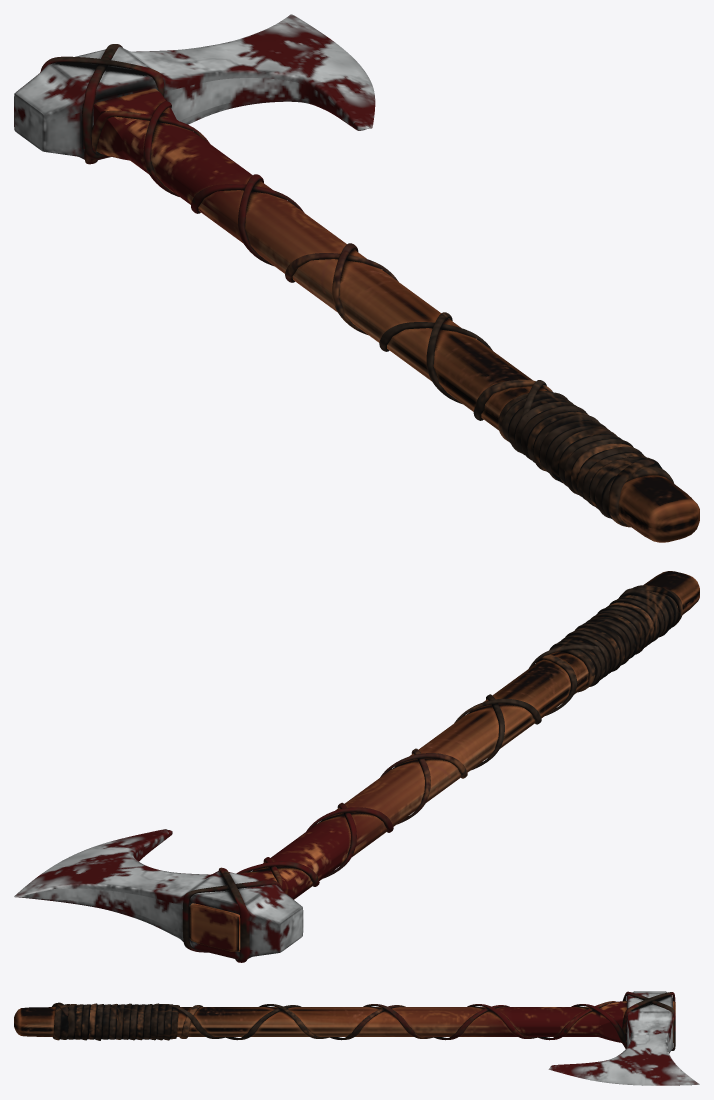
The model's file is Hache_de_kattegat.glb.
3 views of the same model, one above another, from view 1: azimuth 30°, elevation 25°; view 2: azimuth 150°, elevation 25°; view 3: azimuth 270°, elevation 25° (orthographic). The views are drawn at different scales.
Parts seen in each view (by area): view 1: polySurface6; view 2: polySurface6; view 3: polySurface6.
Boxes of the visible parts, x1,y1,x2,y2 form: polySurface6: [14, 14, 699, 542]; polySurface6: [14, 571, 699, 962]; polySurface6: [14, 991, 699, 1085].
Size of the model in its own units: 6.27 by 1.66 by 21.62.
1 material, 1 textured.
